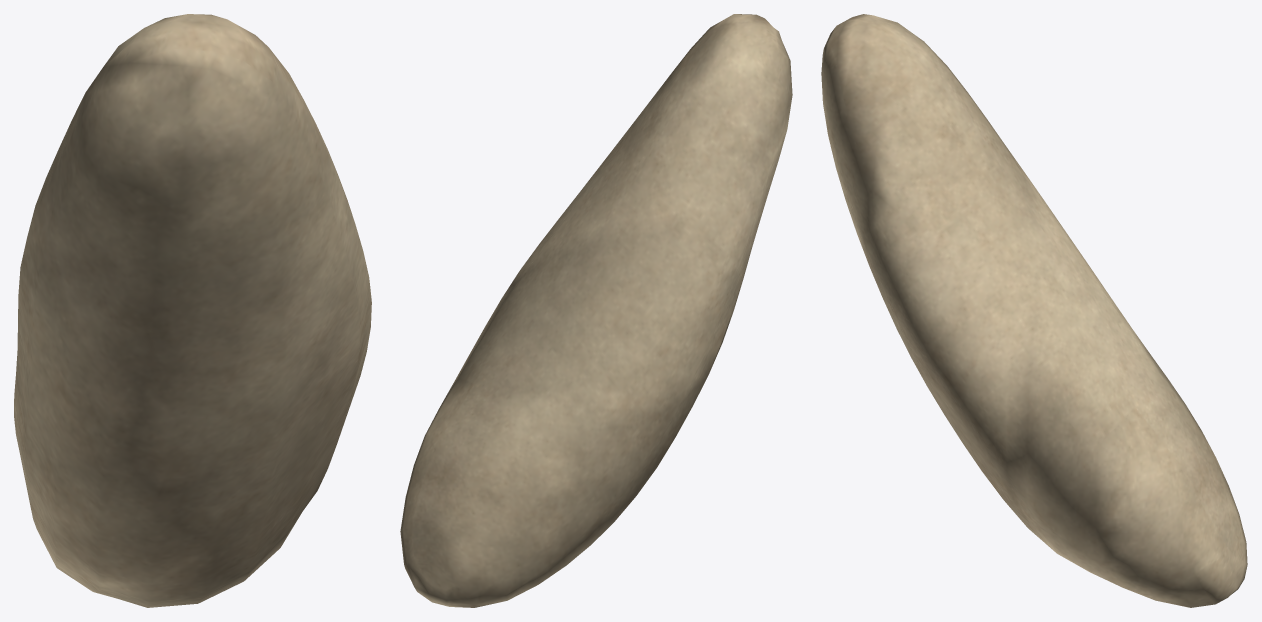
The model's file is lower_canine1.glb.
3 views of the same model, side by side, from view 1: azimuth 30°, elevation 25°; view 2: azimuth 150°, elevation 25°; view 3: azimuth 270°, elevation 25° (orthographic). The views are drawn at different scales.
Visible parts, largest first — view 1: Group27951_Mesh.001; view 2: Group27951_Mesh.001; view 3: Group27951_Mesh.001.
Part boxes in pixels (<box>): Group27951_Mesh.001: <box>14,14,371,607</box>; Group27951_Mesh.001: <box>400,14,792,607</box>; Group27951_Mesh.001: <box>821,14,1247,607</box>.
Bounding box in the file's own units: 0.00931 × 0.0182 × 0.0136.
1 material, 1 textured.
